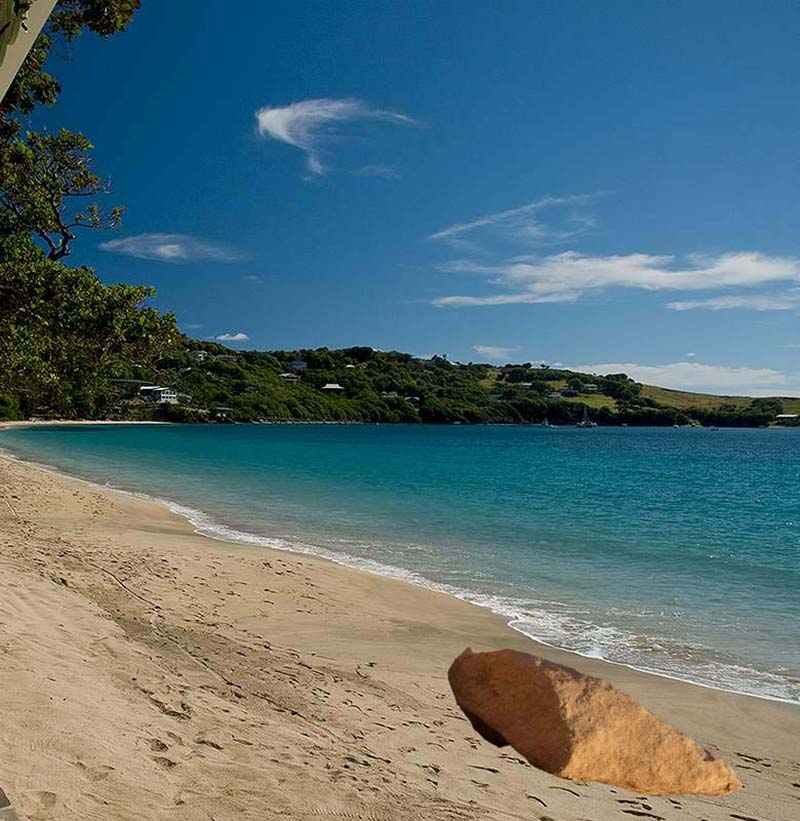Rocks: (441, 637, 750, 802)
